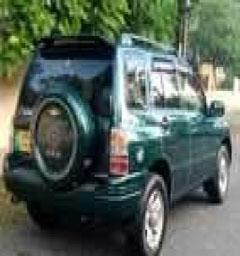car: (3, 17, 240, 256)
